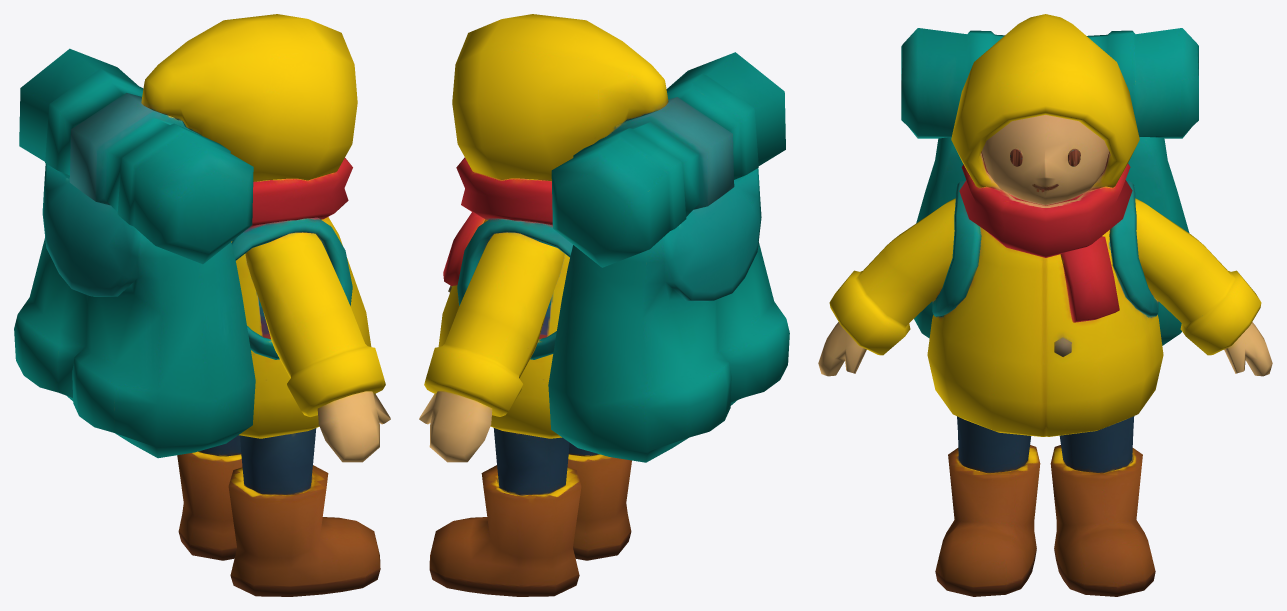
The model's file is scout_model_mesh.glb.
3 renders of one model, left to right at view 1: azimuth 30°, elevation 25°; view 2: azimuth 150°, elevation 25°; view 3: azimuth 270°, elevation 25°, orthographic. The views are drawn at different scales.
Parts seen in each view (by area): view 1: tripo_node_ddf81ce6-d374-4474-af86-c33a45d28acd; view 2: tripo_node_ddf81ce6-d374-4474-af86-c33a45d28acd; view 3: tripo_node_ddf81ce6-d374-4474-af86-c33a45d28acd.
Part boxes in pixels (x1=…): tripo_node_ddf81ce6-d374-4474-af86-c33a45d28acd: x1=14, y1=14, x2=390, y2=596; tripo_node_ddf81ce6-d374-4474-af86-c33a45d28acd: x1=419, y1=14, x2=789, y2=596; tripo_node_ddf81ce6-d374-4474-af86-c33a45d28acd: x1=818, y1=14, x2=1272, y2=596.
Size of the model in its own units: 0.5757 by 0.9995 by 0.7866.
Materials: 1 (1 with a texture image).
